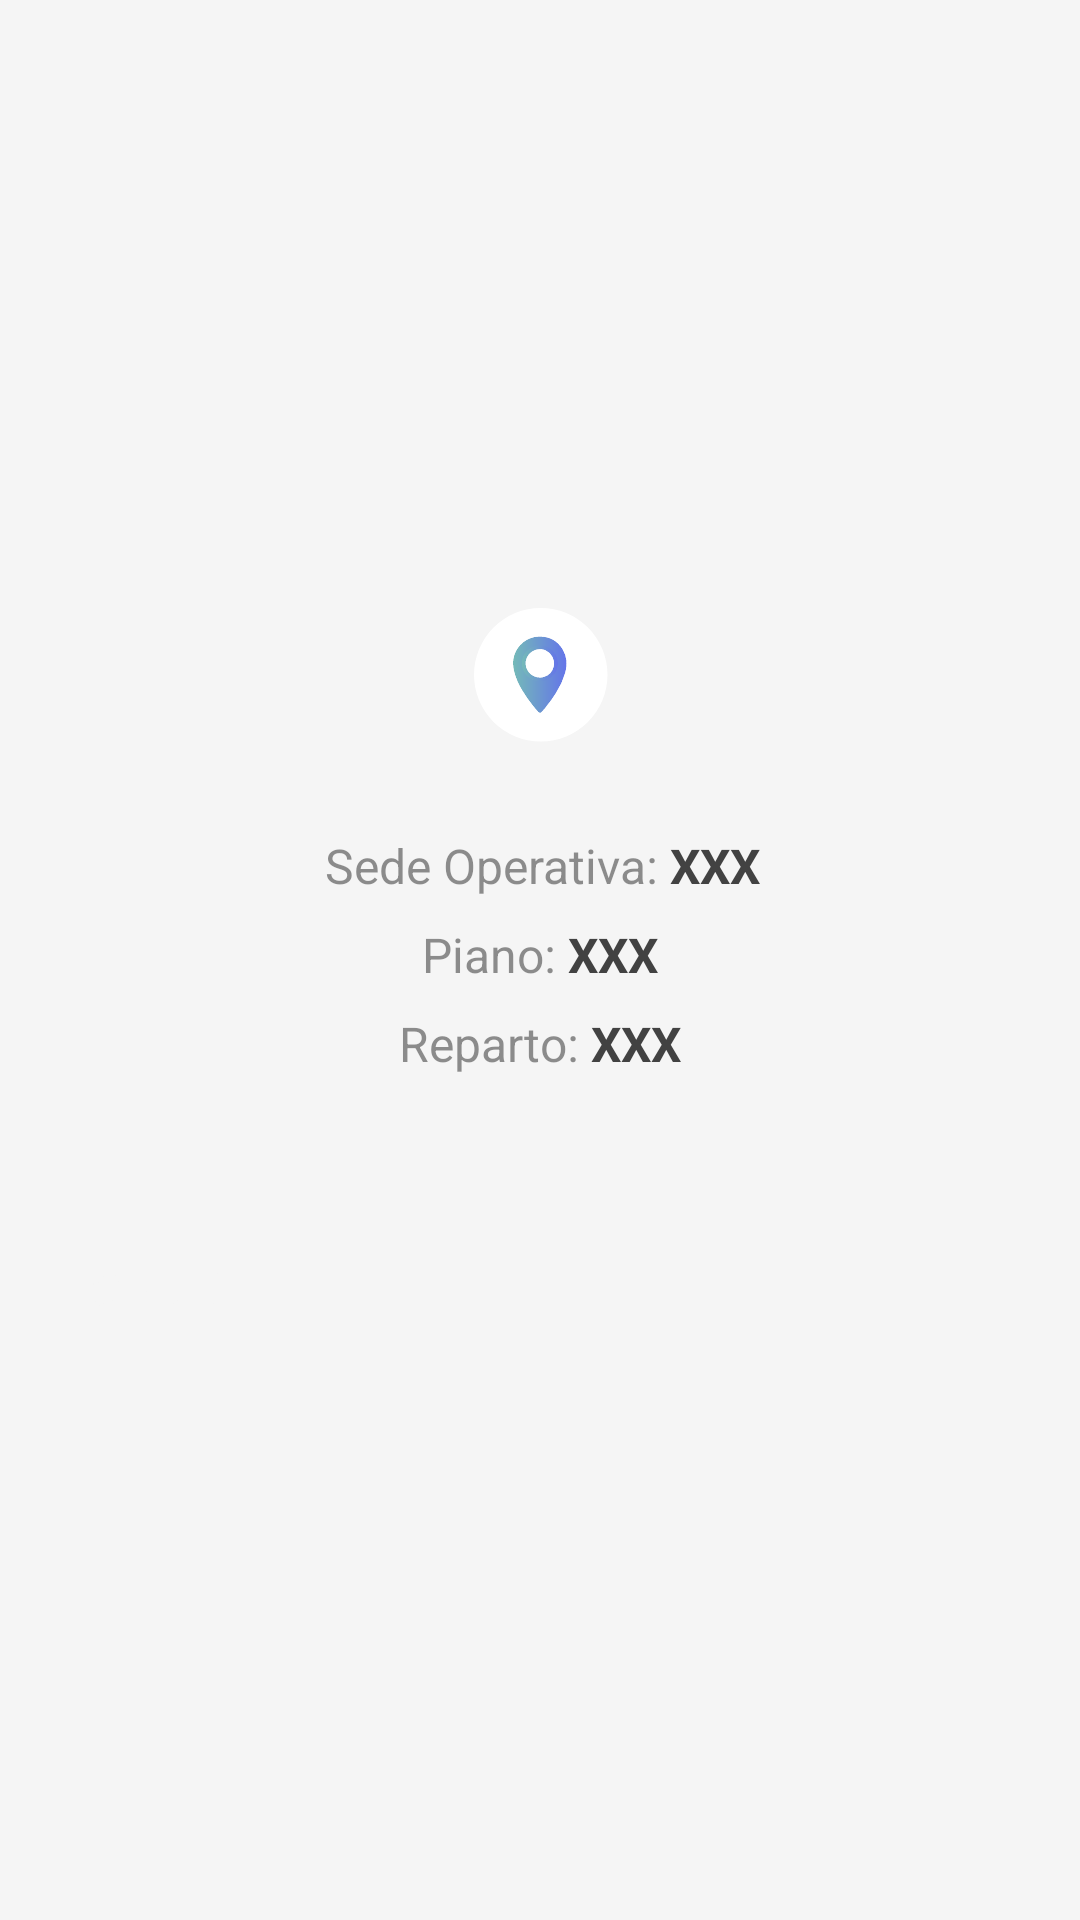

Locate icon controls on the screen. Image size 1080×1920, boxes as bbox=(x1, y1, x2, y2).
location: bbox=(513, 636, 567, 713)
